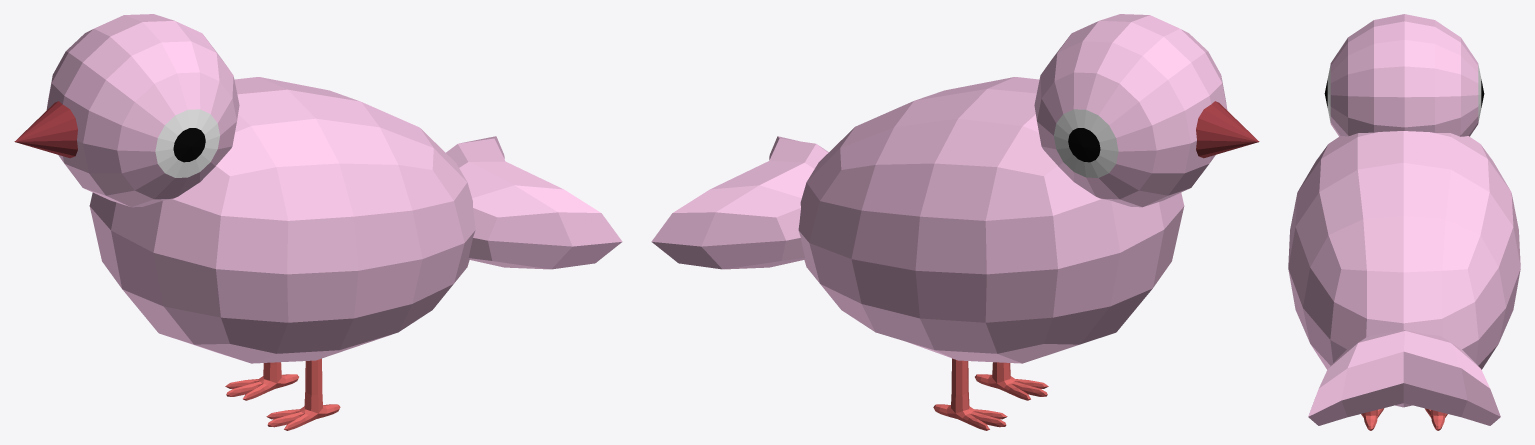
File: Bird2.fbx
3 views of the same model, side by side, from view 1: azimuth 30°, elevation 25°; view 2: azimuth 150°, elevation 25°; view 3: azimuth 270°, elevation 25° (orthographic). The views are drawn at different scales.
Visible parts, largest first — view 1: model_0, model_1; view 2: model_0, model_1; view 3: model_0, model_1.
Boxes of the visible parts, box(x1,y1,x2,y2) form: model_0: box(14, 14, 622, 363); model_1: box(225, 358, 340, 430); model_0: box(651, 14, 1259, 363); model_1: box(933, 358, 1048, 430); model_0: box(1288, 14, 1520, 425); model_1: box(1361, 408, 1447, 430).
Bounding box in the file's own units: 173 × 126 × 77.79.
